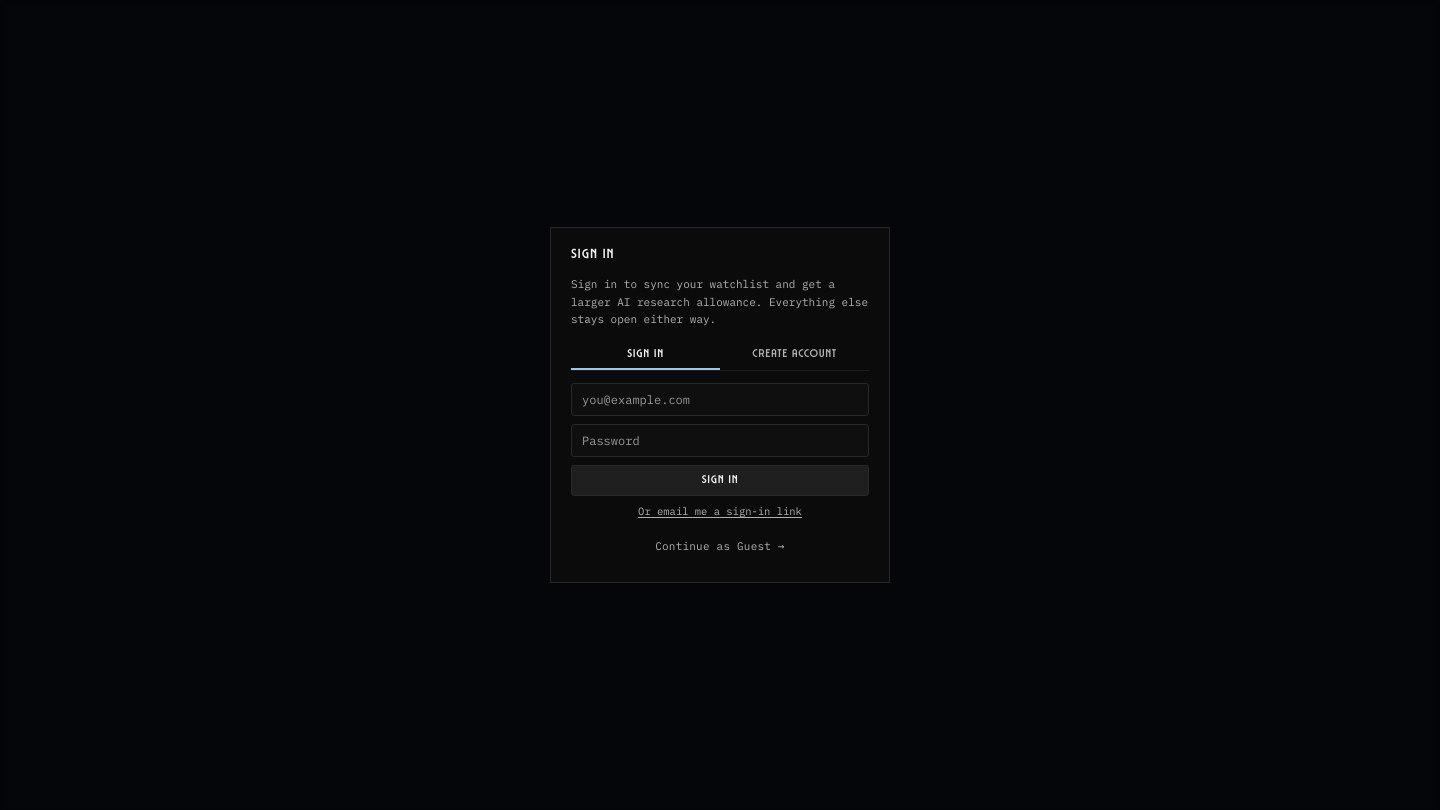
Test: SignInDialog › switching to Create account reveals the username field
Click the button "Create account". click: [794, 355]
box: x1=720 y1=341 x2=869 y2=370
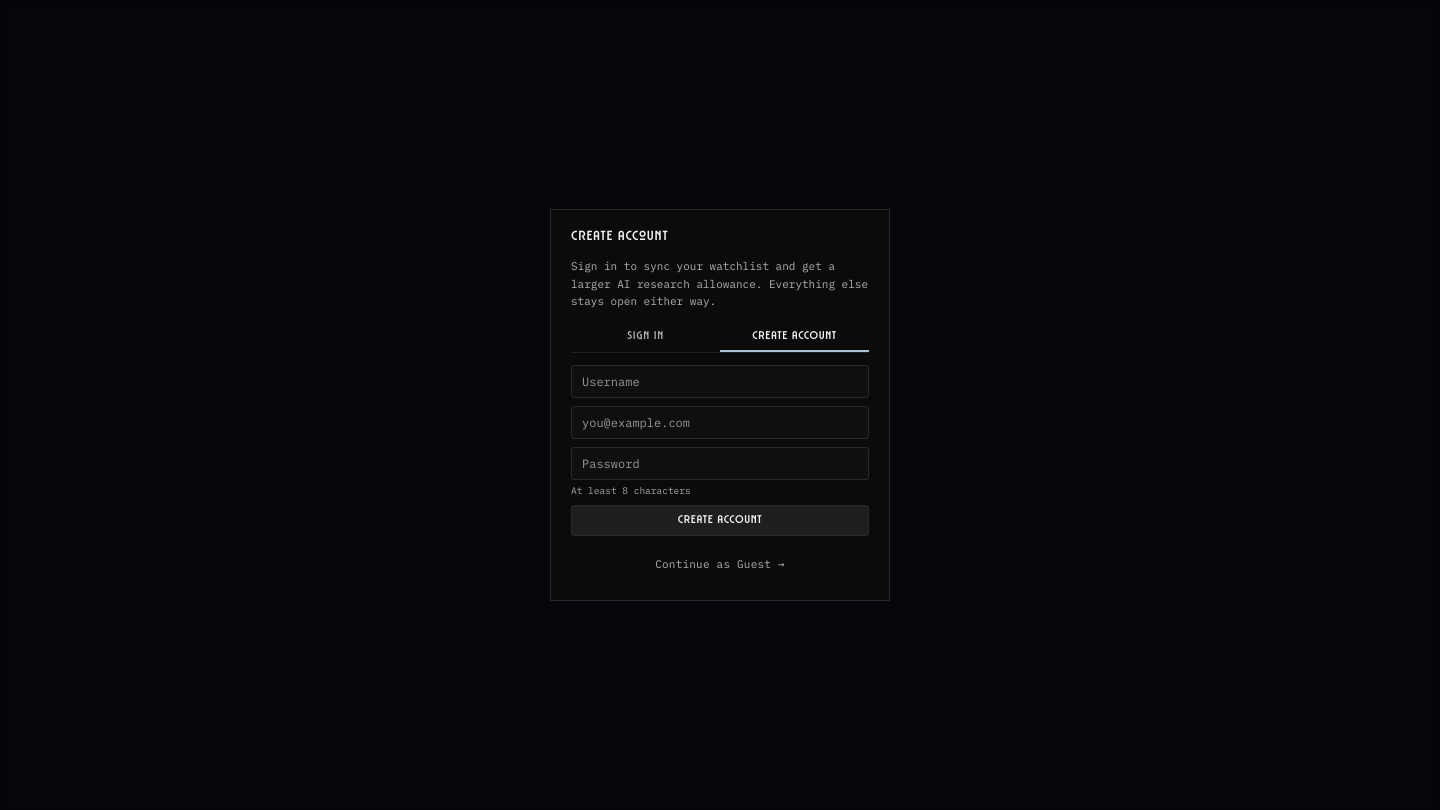
Check: the field with placeholder "Username" is shown, box x1=571 y1=365 x2=869 y2=398
